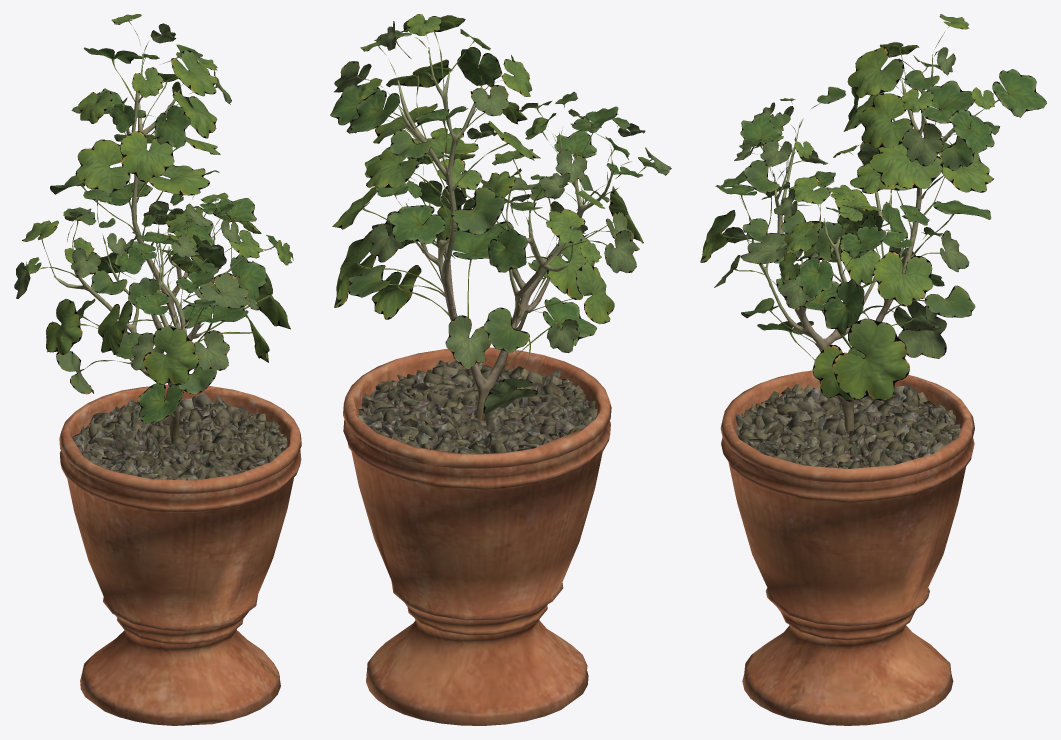
File: potplant_hoog.gltf
3 views of the same model, side by side, from view 1: azimuth 30°, elevation 25°; view 2: azimuth 150°, elevation 25°; view 3: azimuth 270°, elevation 25° (orthographic). The views are drawn at different scales.
Parts seen in each view (by area): view 1: potted_plant_01_pot, potted_plant_01_leaves, potted_plant_01_pebbles, potted_plant_01_stem; view 2: potted_plant_01_pot, potted_plant_01_leaves, potted_plant_01_pebbles, potted_plant_01_stem; view 3: potted_plant_01_pot, potted_plant_01_leaves, potted_plant_01_pebbles, potted_plant_01_stem.
Part boxes in pixels (<box>): potted_plant_01_pot: <box>59,384,301,725</box>; potted_plant_01_leaves: <box>14,14,293,423</box>; potted_plant_01_pebbles: <box>68,392,287,480</box>; potted_plant_01_stem: <box>54,54,244,444</box>; potted_plant_01_pot: <box>343,347,611,725</box>; potted_plant_01_leaves: <box>330,14,671,414</box>; potted_plant_01_pebbles: <box>358,360,597,455</box>; potted_plant_01_stem: <box>397,47,612,420</box>; potted_plant_01_pot: <box>720,370,974,725</box>; potted_plant_01_leaves: <box>700,14,1046,401</box>; potted_plant_01_pebbles: <box>735,384,960,468</box>; potted_plant_01_stem: <box>751,55,966,433</box>.
Size of the model in its own units: 0.5871 by 1.34 by 0.6336.
2 materials, 2 textured.
